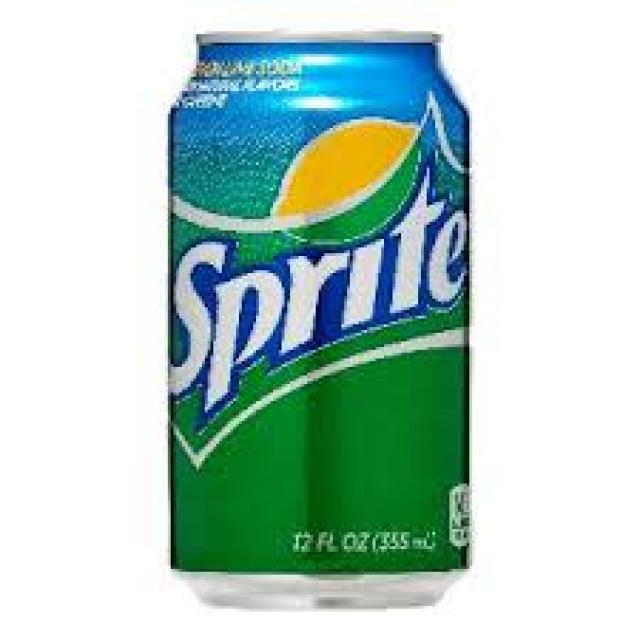aluminum_can: (171, 34, 472, 609)
